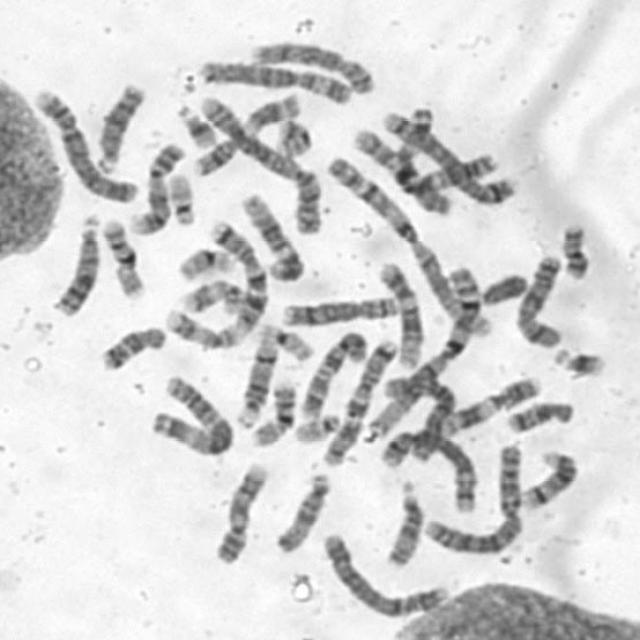A1: (322, 150, 493, 338), (367, 259, 484, 439)
A2: (195, 92, 324, 237), (420, 442, 524, 556)
A3: (392, 102, 499, 199), (147, 371, 232, 457)
B4: (30, 86, 140, 206), (320, 530, 449, 617)
B5: (378, 107, 518, 205), (376, 426, 479, 513)
C10: (350, 125, 454, 218), (296, 328, 368, 420)
C11: (190, 91, 302, 177), (440, 372, 543, 436)
C12: (238, 189, 306, 283), (374, 258, 424, 370)
C6: (194, 56, 356, 106), (379, 375, 453, 467)
C7: (318, 342, 400, 474), (207, 220, 271, 328)
C8: (247, 42, 377, 96), (278, 292, 401, 327)
C9: (210, 458, 269, 566), (125, 139, 187, 237)
D13: (48, 208, 102, 318), (91, 79, 146, 174)
D14: (233, 335, 280, 430), (517, 448, 580, 510)
D15: (272, 468, 332, 555), (380, 476, 425, 568)
E16: (99, 216, 147, 300), (247, 378, 297, 449)
E17: (164, 307, 241, 351), (176, 276, 247, 316)
E18: (96, 322, 167, 373), (502, 396, 576, 434)
F19: (252, 319, 315, 362), (173, 244, 237, 282)
F20: (558, 220, 591, 281), (277, 122, 318, 159)
G21: (174, 102, 220, 150), (550, 345, 609, 379)
G22: (165, 170, 198, 227), (290, 412, 342, 445)
X: (512, 252, 565, 349)
Y: (477, 268, 528, 306)
